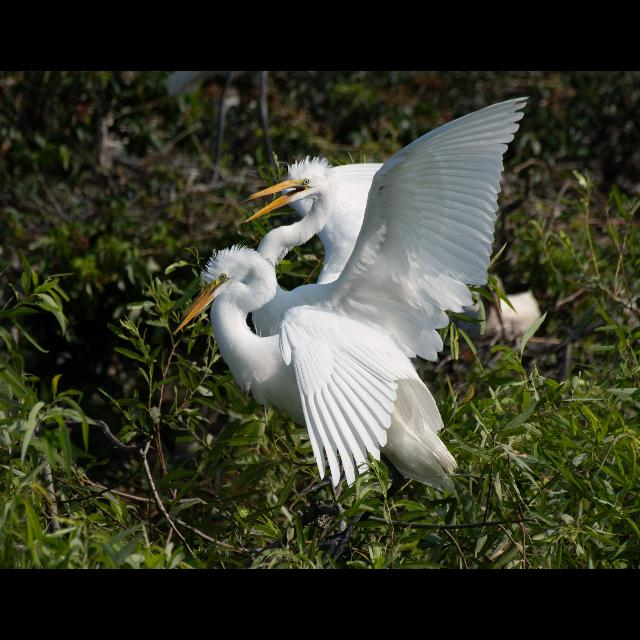egret: (158, 241, 464, 499), (242, 144, 526, 314)
